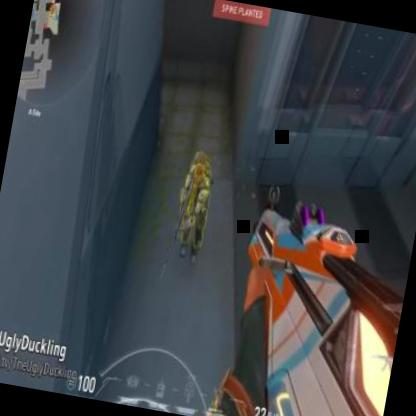enemy: (166, 152, 218, 266)
enemy_head: (191, 160, 205, 182)
